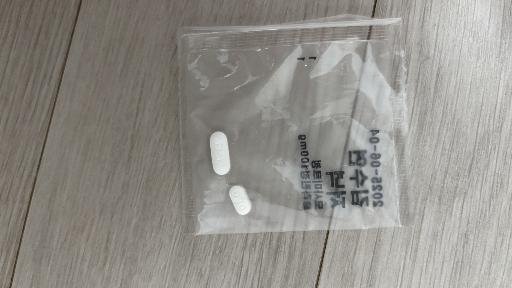Mosamir: (229, 185, 252, 215)
Traline: (210, 131, 230, 175)
vinyl: (178, 15, 412, 235)
